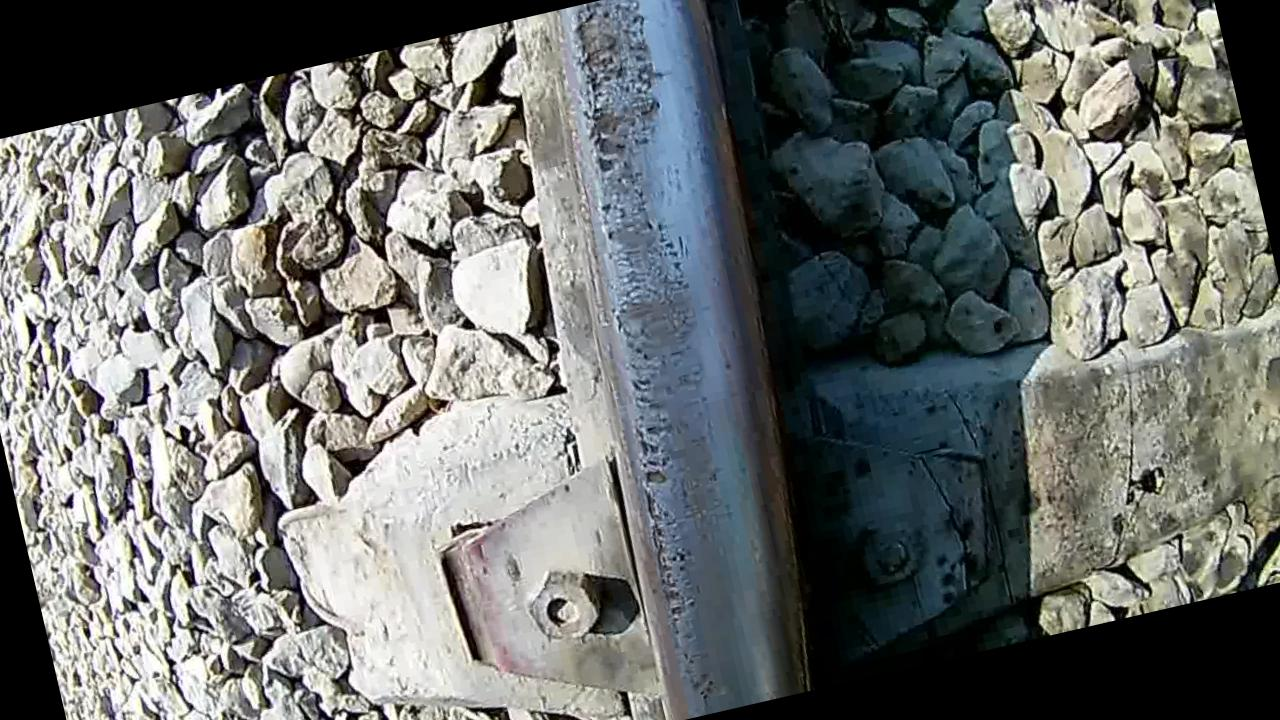crack: (521, 0, 835, 719)
